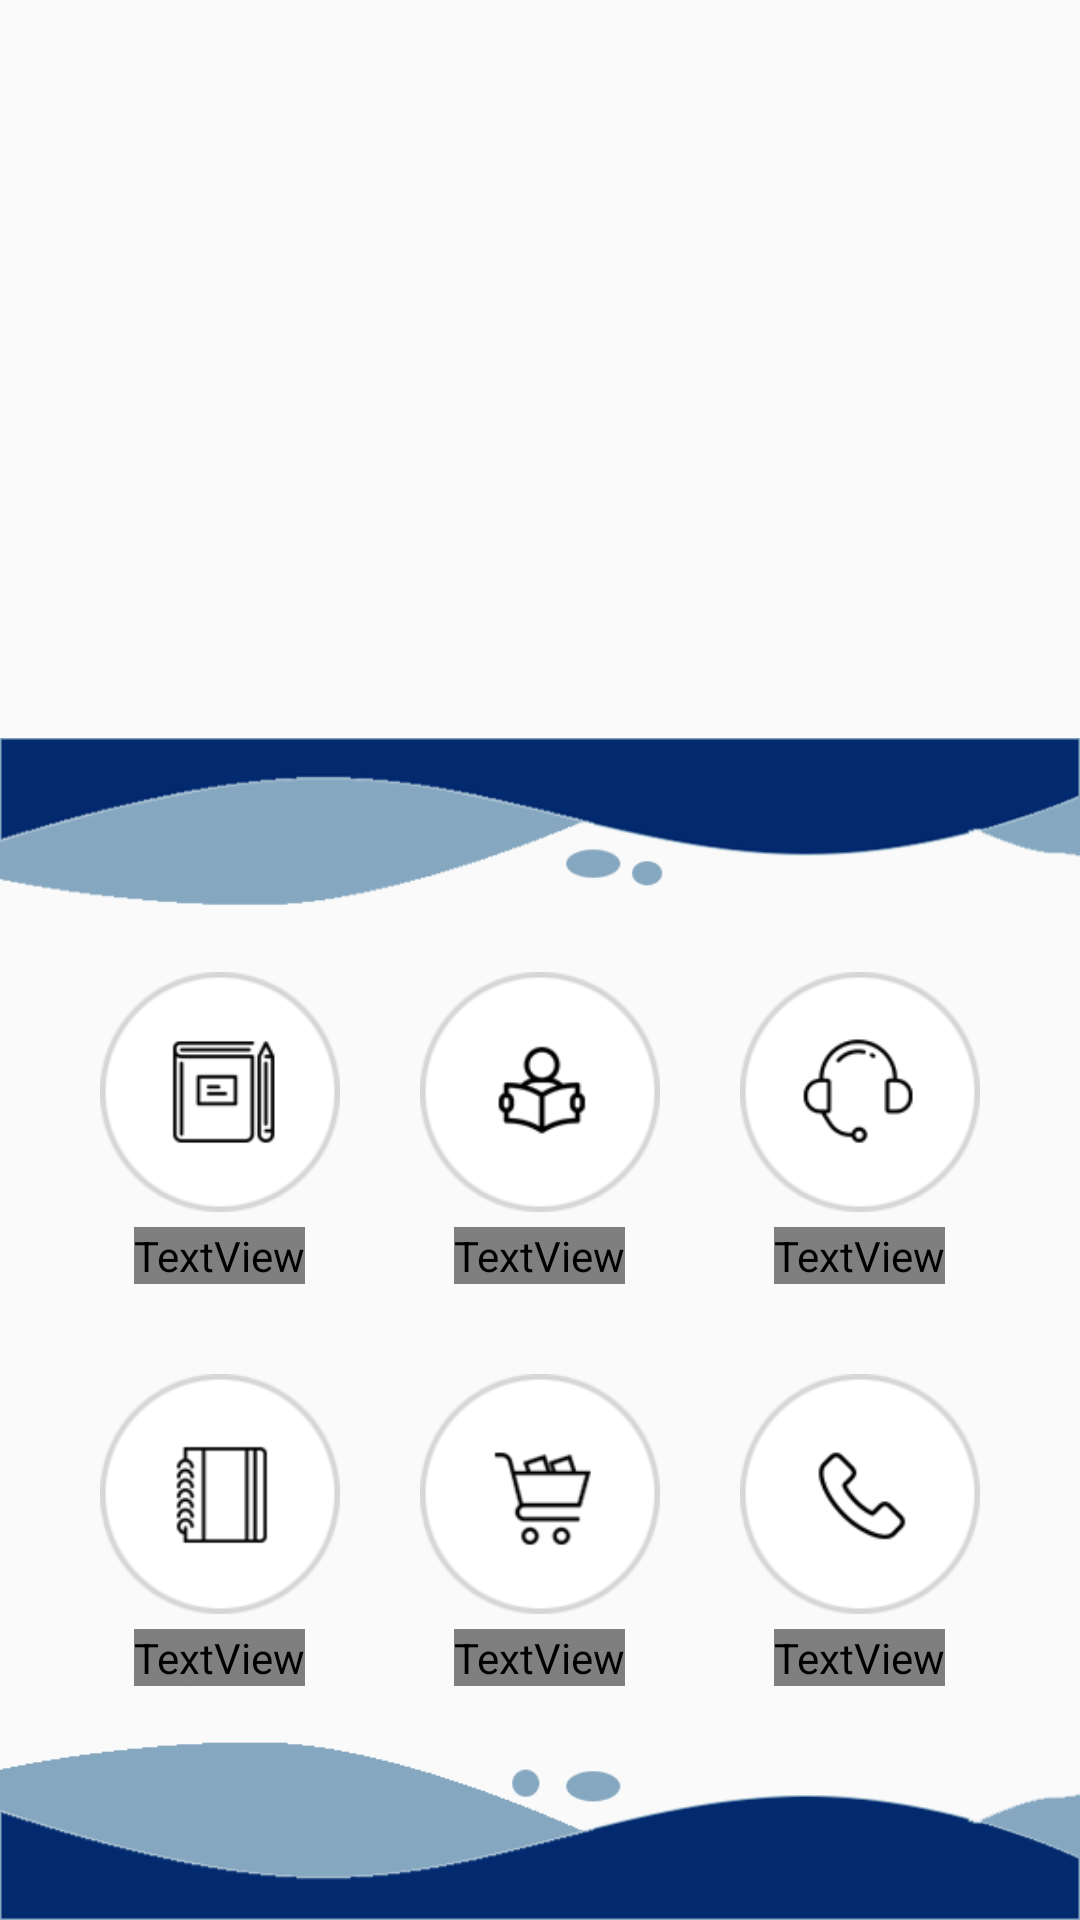

Where to tap for icons on this 1080w x 1920h app screen, as point (x, y):
call dashboard: point (860, 1494)
cart dashboard: point (540, 1494)
lesson dashboard: point (220, 1092)
schedule dashboard: point (220, 1494)
